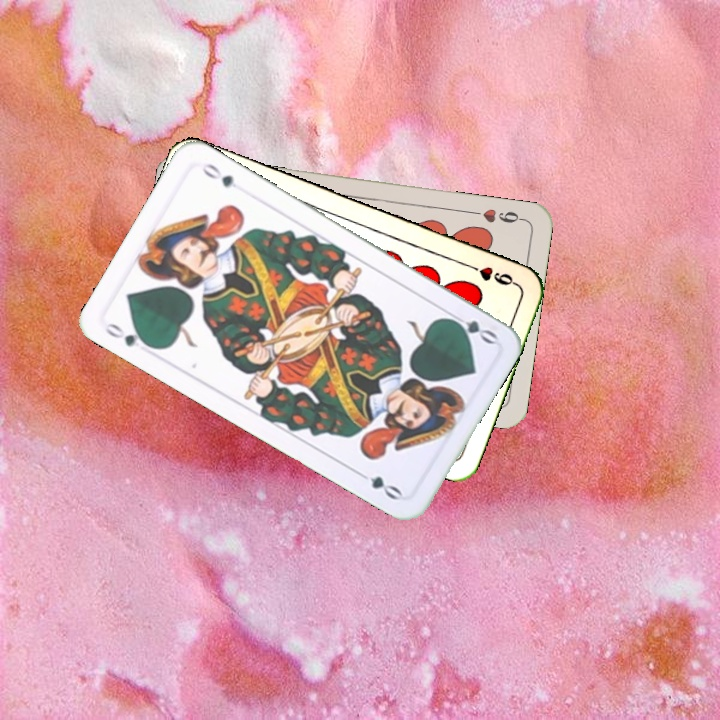GO: (442, 308, 500, 347), (101, 318, 157, 352)
H9: (463, 260, 520, 288), (468, 204, 527, 226)
